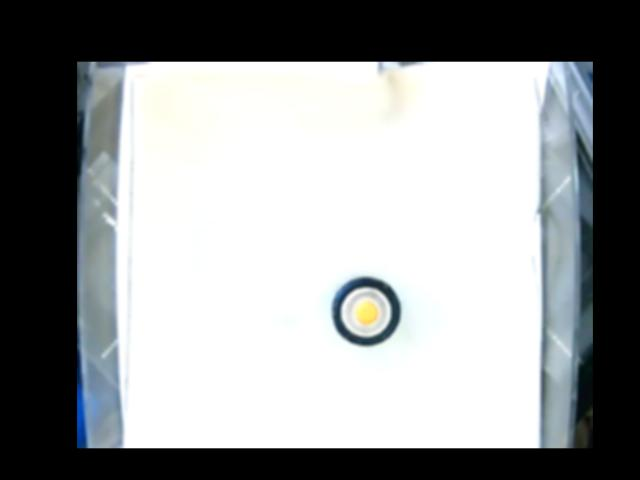Battery: (330, 274, 403, 349)
